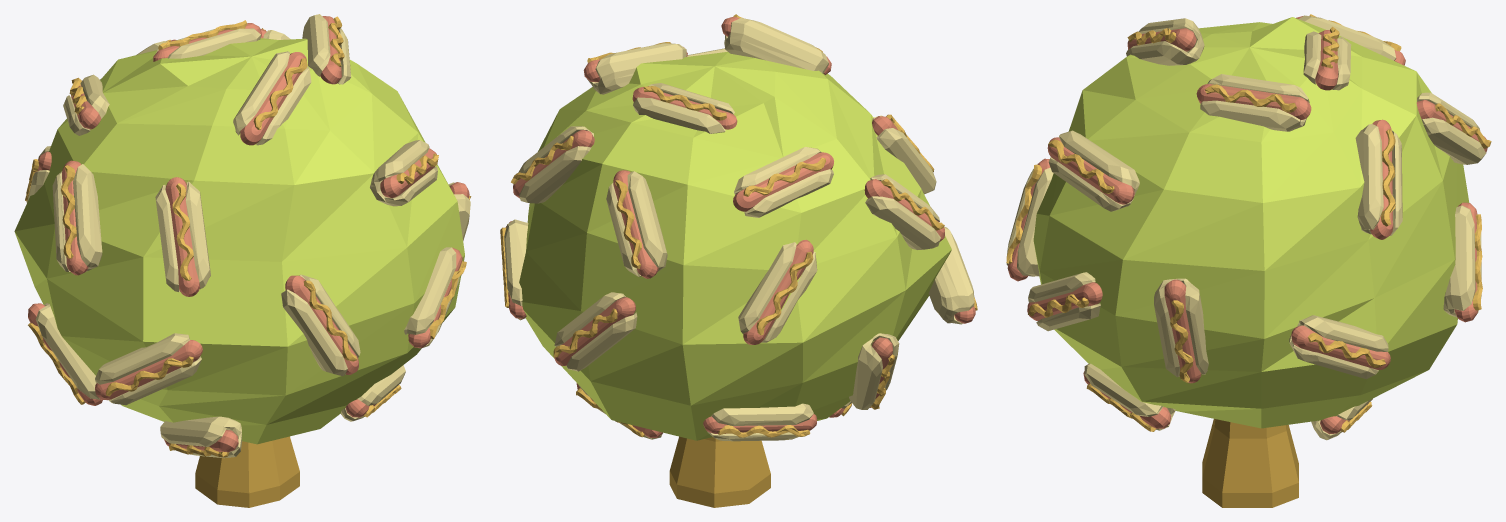
The model's file is HotDogBush.fbx.
3 views of the same model, side by side, from view 1: azimuth 30°, elevation 25°; view 2: azimuth 150°, elevation 25°; view 3: azimuth 270°, elevation 25° (orthographic). The views are drawn at different scales.
Parts seen in each view (by area): view 1: pPlane2; view 2: pPlane2; view 3: pPlane2.
Part boxes in pixels (x1,y1,x2,y2): pPlane2: (14, 14, 471, 507); pPlane2: (500, 14, 977, 507); pPlane2: (1006, 14, 1491, 507).
Bounding box in the file's own units: 67.79 × 73.57 × 68.87.
